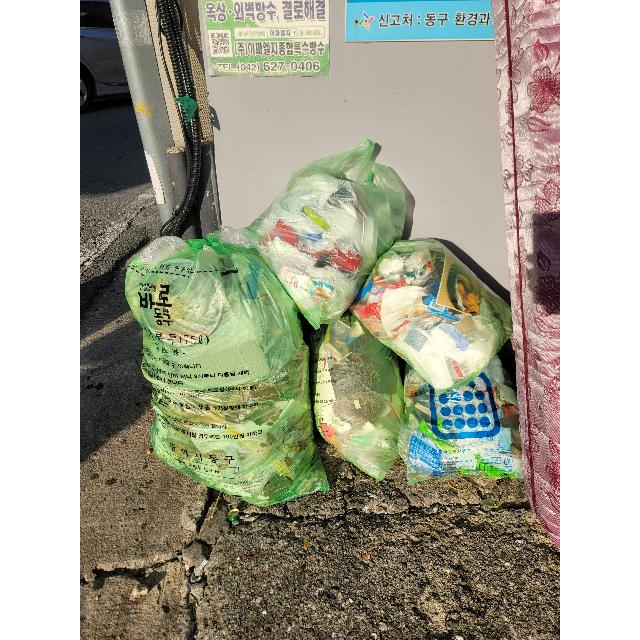general_trashbag: (125, 236, 329, 505), (245, 140, 406, 329), (350, 239, 511, 391), (312, 311, 404, 480), (399, 358, 522, 484)
